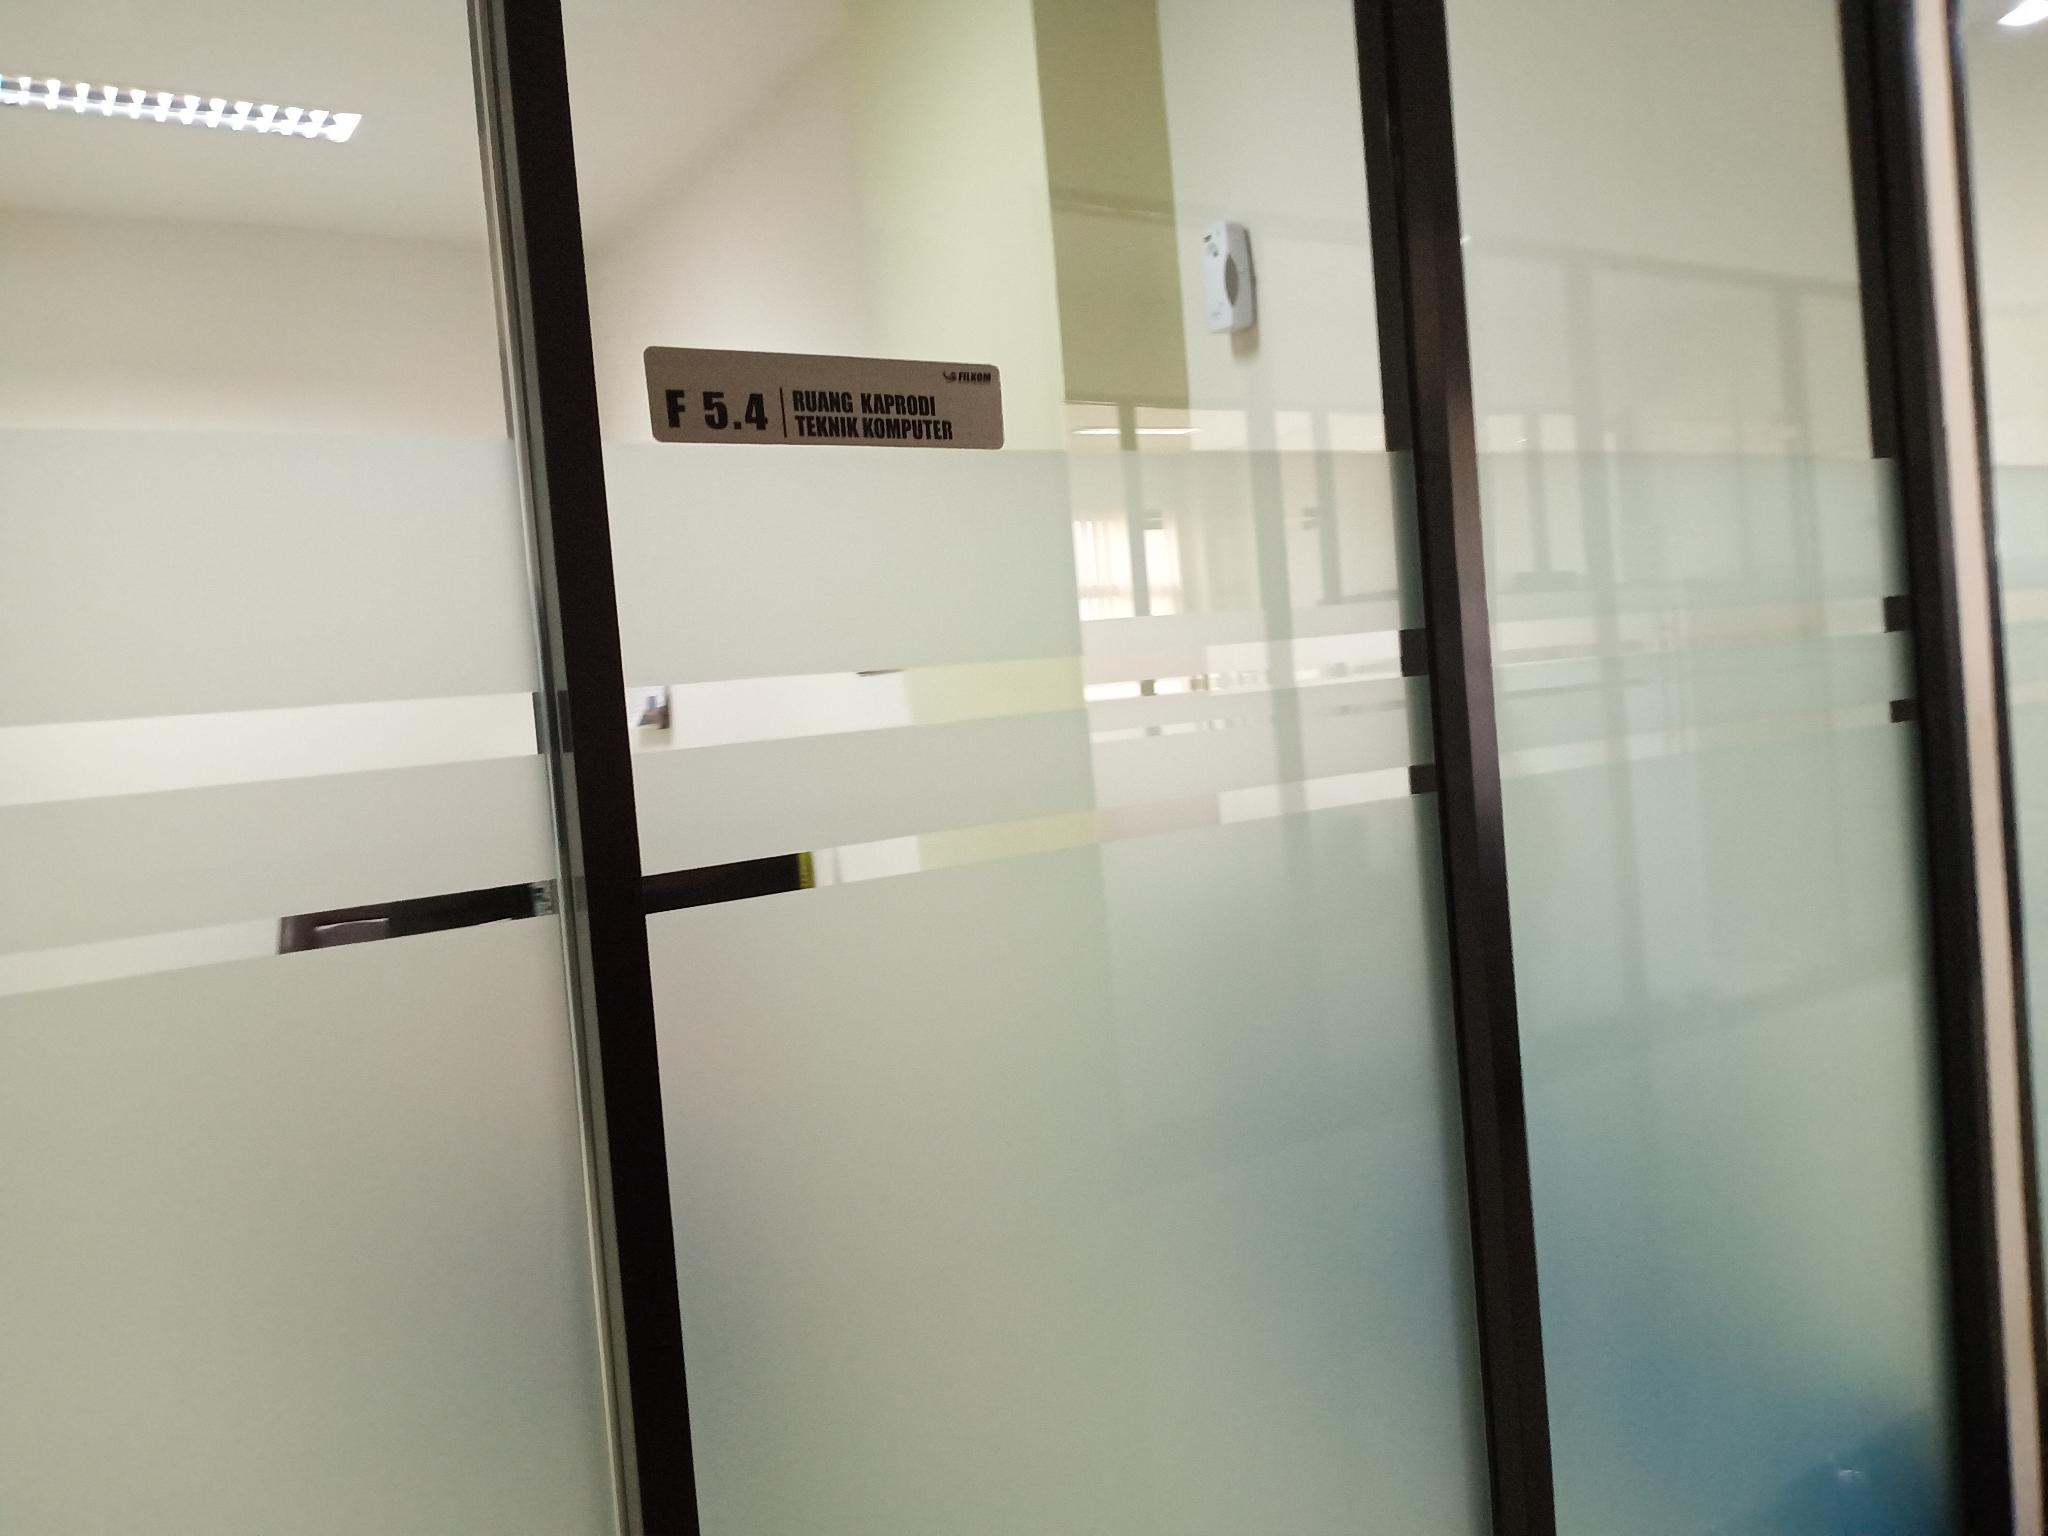plate: (643, 345, 1005, 450)
